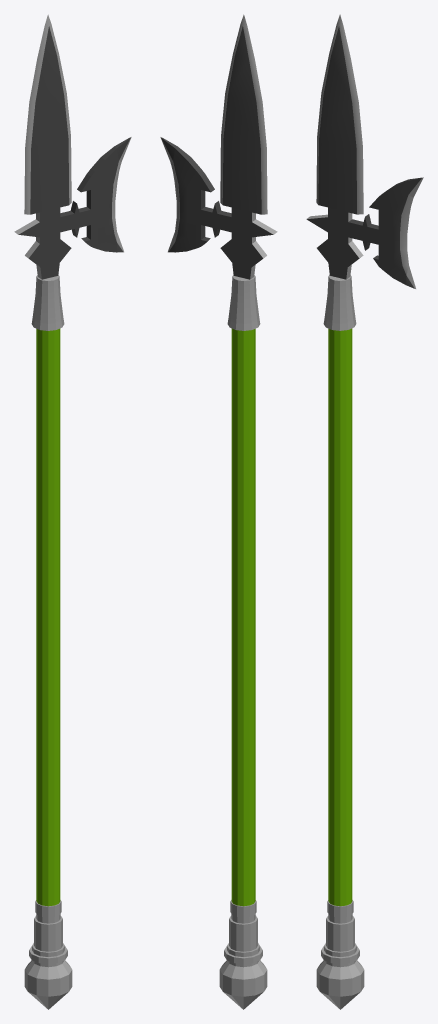
Rendered from Spear_06.fbx.
3 renders of one model, left to right at view 1: azimuth 30°, elevation 25°; view 2: azimuth 150°, elevation 25°; view 3: azimuth 330°, elevation 25°, orthographic.
Parts seen in each view (by area): view 1: Spear_06; view 2: Spear_06; view 3: Spear_06.
Part boxes in pixels (x1,y1,x2,y2): Spear_06: [14, 14, 131, 1009]; Spear_06: [160, 14, 277, 1009]; Spear_06: [306, 14, 423, 1009].
Size of the model in its own units: 2.22 by 18.31 by 0.7959.
